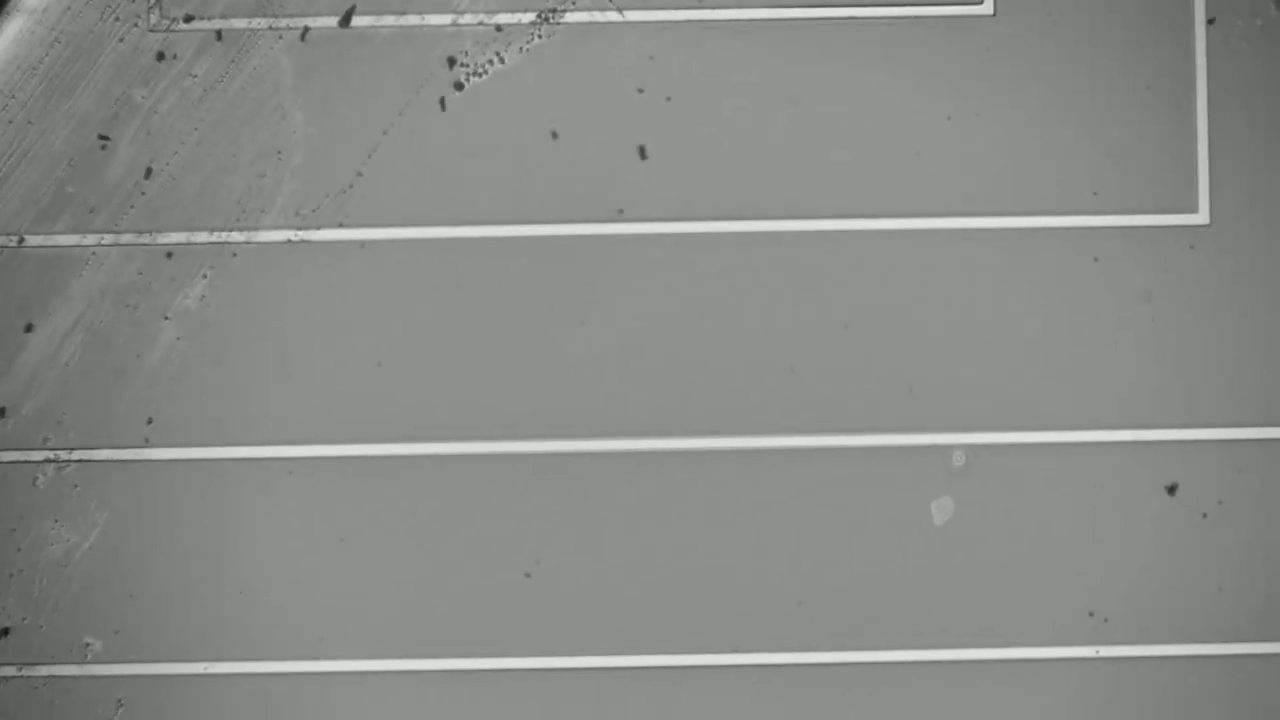stains_enbedded: (331, 3, 362, 34)
